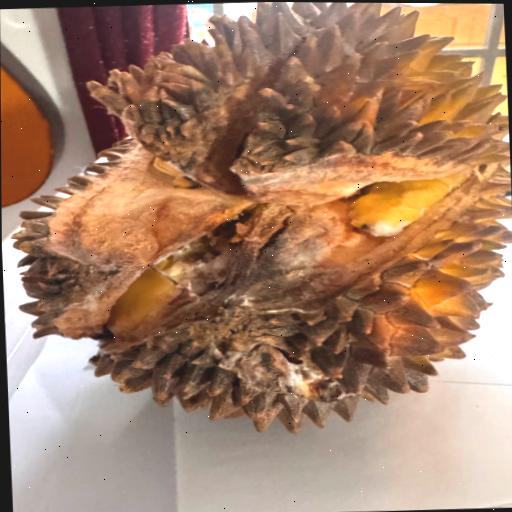mold: (15, 110, 463, 414)
rot: (0, 0, 512, 443)
